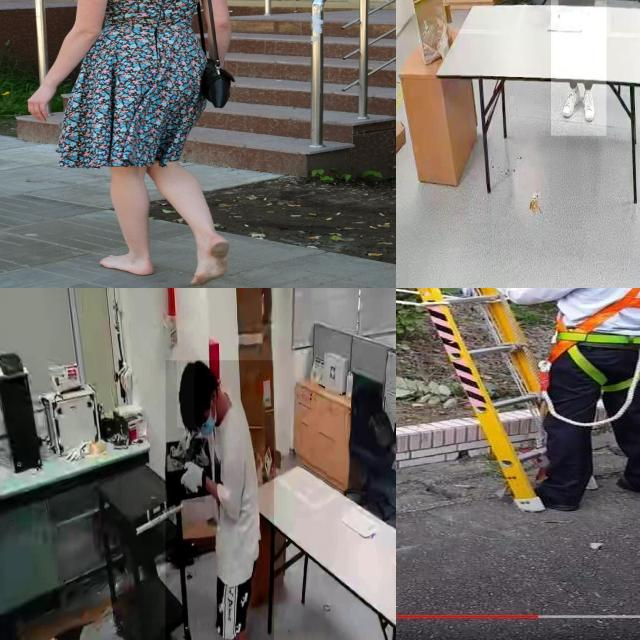Barefoots: (190, 236, 230, 286), (100, 254, 154, 276)
Harness: (545, 288, 640, 395)
face_mask: (198, 398, 220, 444)
hand_glove: (177, 458, 205, 502)
head_nohelmet: (177, 360, 195, 429)
person: (165, 360, 274, 640), (551, 0, 607, 136)
shoes: (560, 84, 584, 120), (581, 85, 597, 121)
